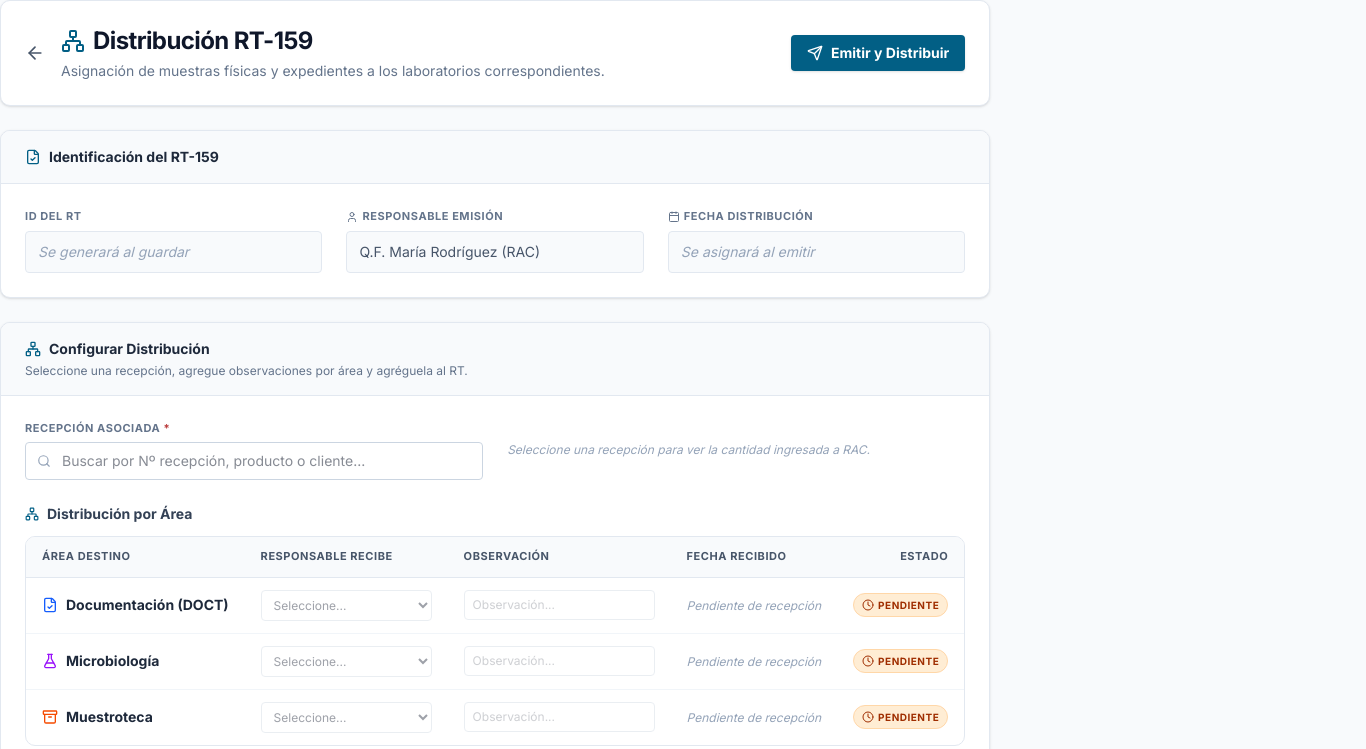
Test case: DistribucionPage — /rac/distribucion › Cantidad RAC — visible al seleccionar recepción › muestra el número correcto para LEF-2024-00141 (48 frascos)
The width and height of the screenshot is (1366, 749).
Type "LEF-2024-00141" into the field with test id "recepcion-search" at coordinates (254, 461), box [25,442,483,480]
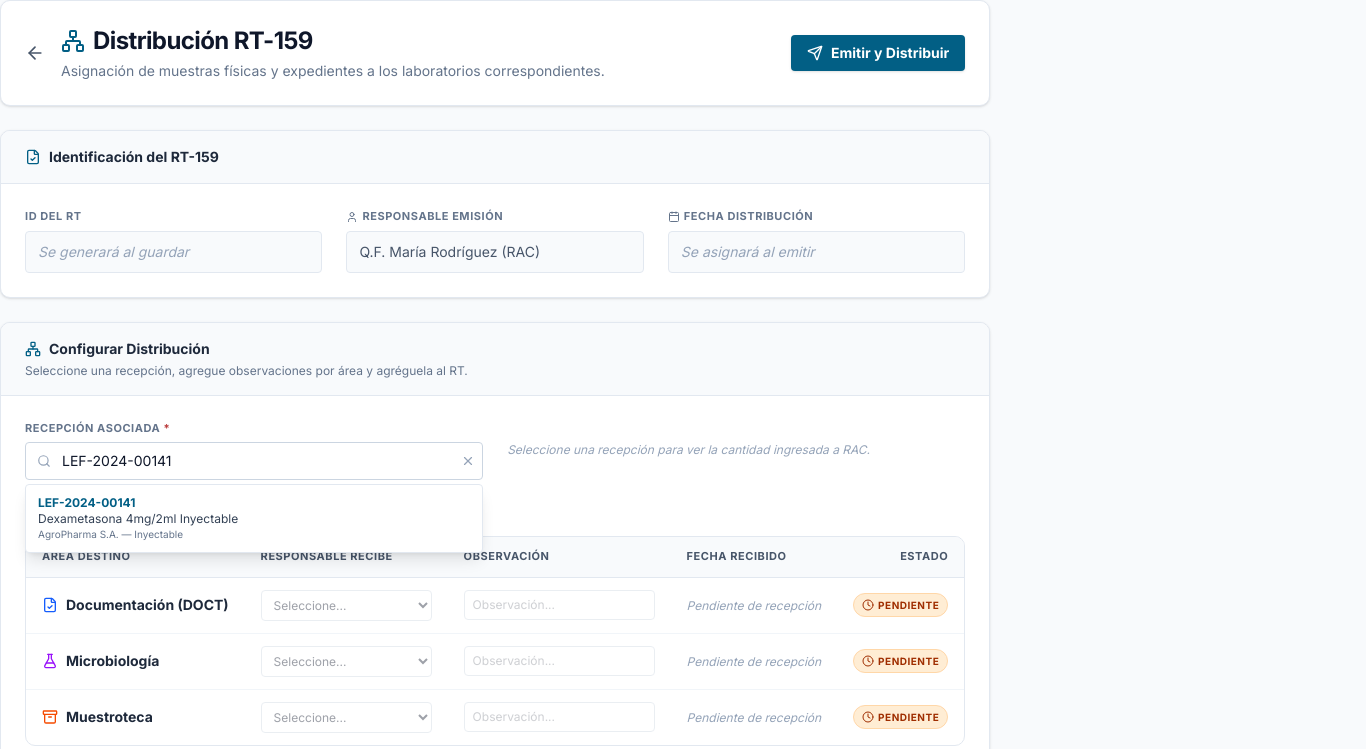
Click the button with test id "recepcion-option" at coordinates (87, 502), box [26,485,482,552]
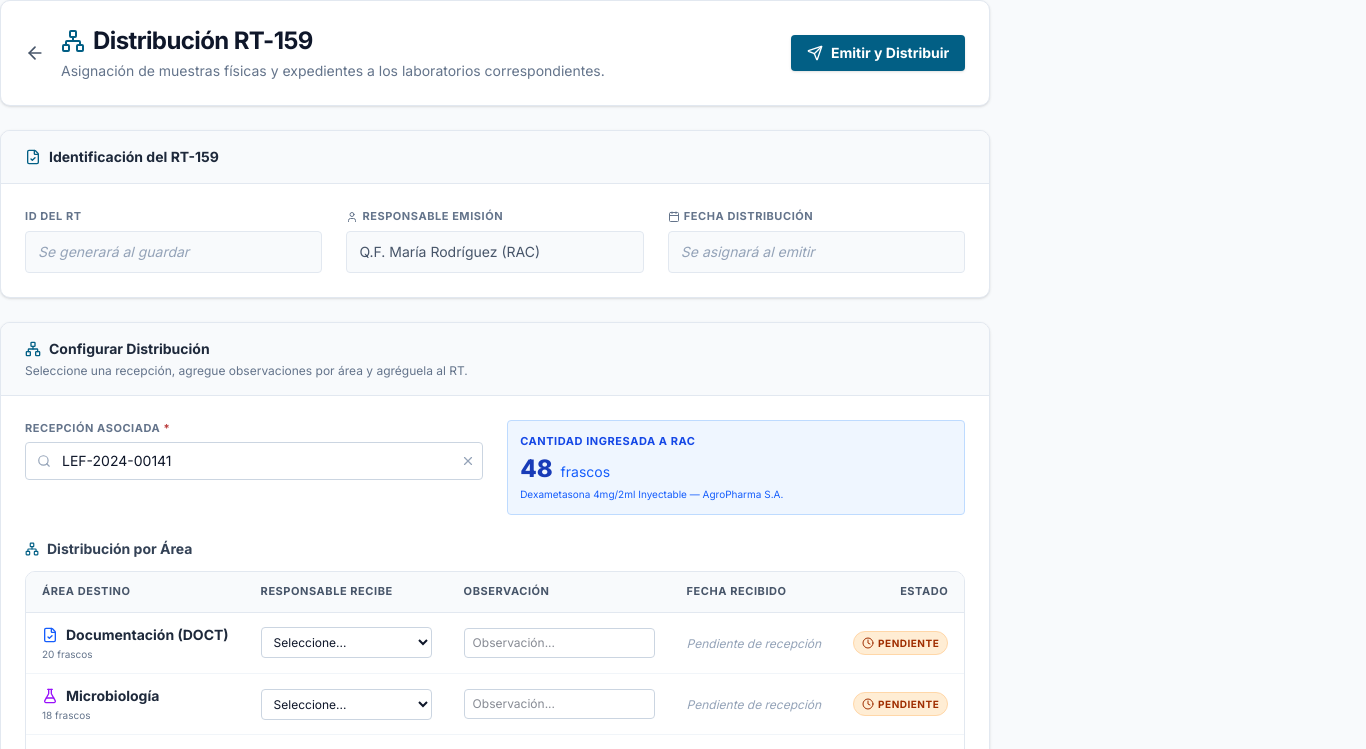
Check: the element with test id "cantidad-rac-info" shows "48", box [520,454,553,483]
Check: the element with test id "cantidad-rac-info" shows "frascos", box [561,463,610,480]
